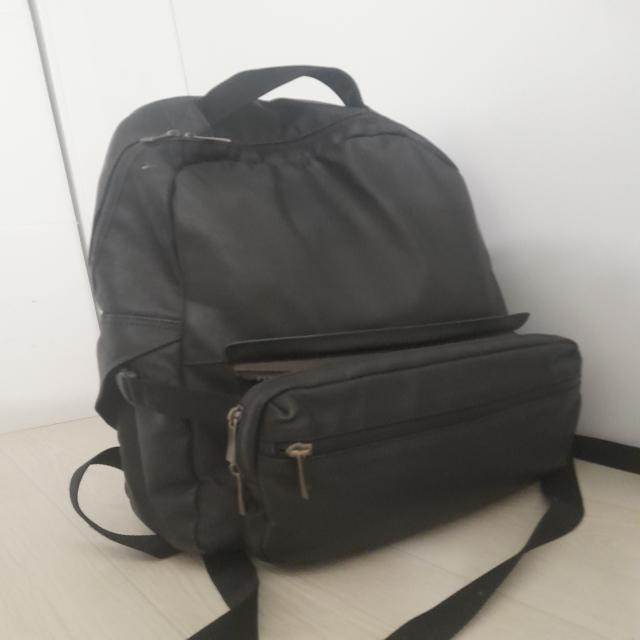backpack: (72, 65, 587, 640)
